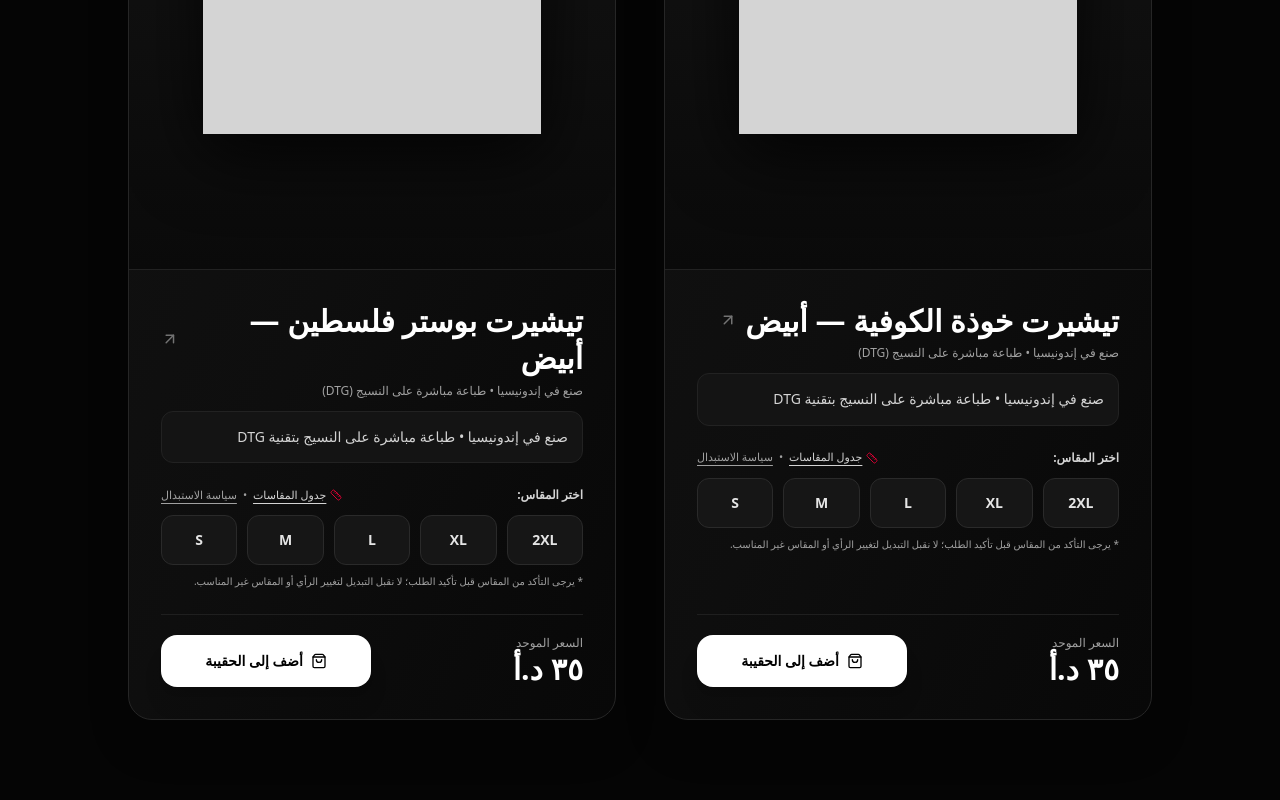
Launch Refinements & Truthful Experience Suite › 2. Intentional Size Selection in DropShowcase › shows accessible inline warning when Add to Bag is clicked without choosing a size
(page scrolled)
expect the text "الرجاء اختيار المقاس أولاً لإضافته إلى الحقيبة" is not shown: met
Note: Click Add to Bag without selecting a size
Click the button "أضف إلى الحقيبة" below "تيشيرت خوذة الكوفية — أبيض" at [802, 660], box 697,634 -> 907,686
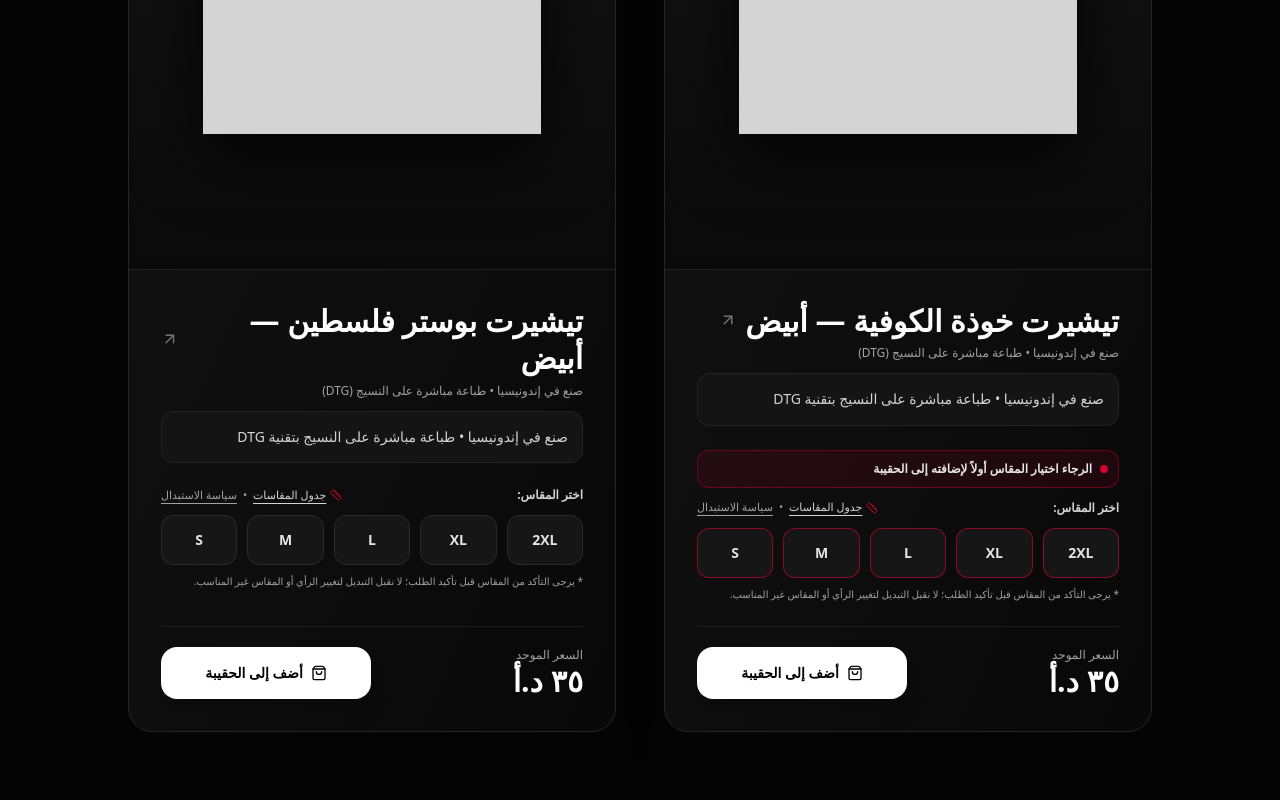
expect the text "الرجاء اختيار المقاس أولاً لإضافته إلى الحقيبة" is shown: met, box 873,461 -> 1092,477
Note: Click size 'M'
Click the button named "Size M" at [822, 553], box 783,528 -> 860,578
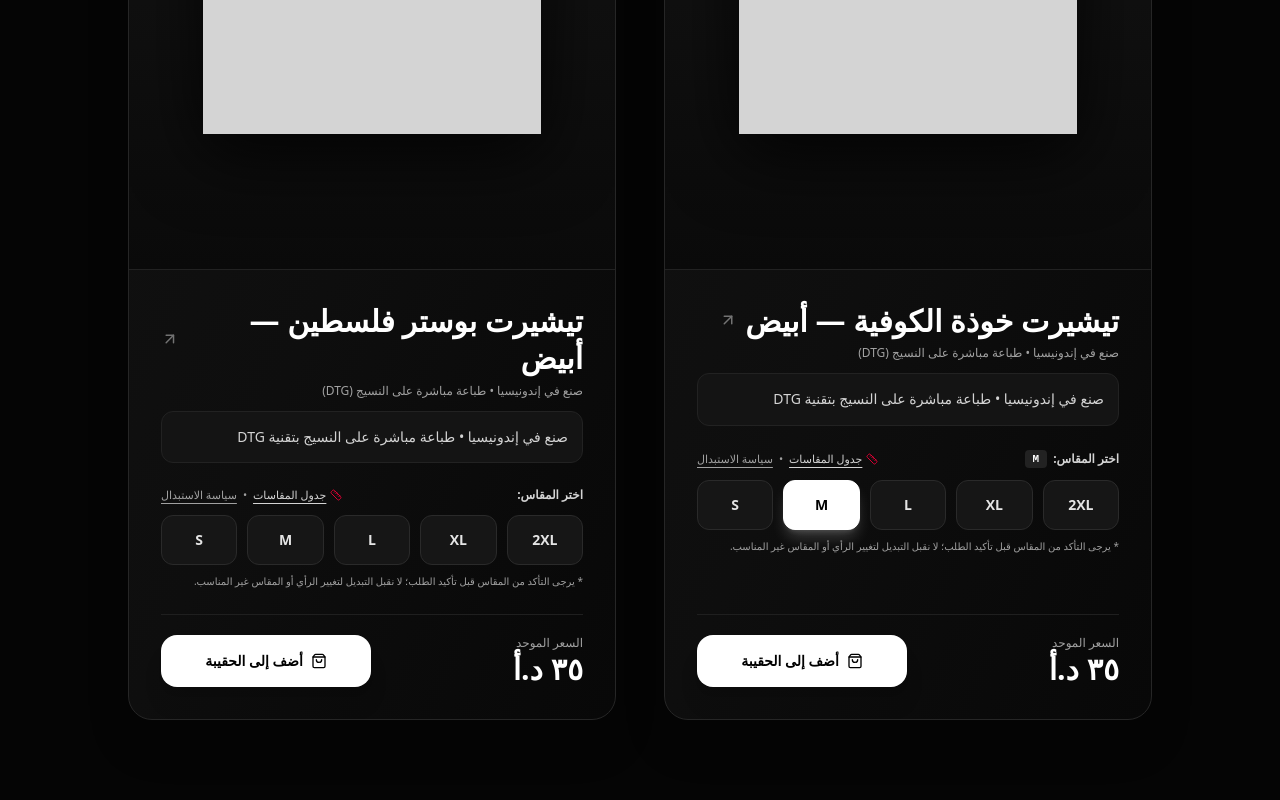
expect the text "الرجاء اختيار المقاس أولاً لإضافته إلى الحقيبة" is gone: met
